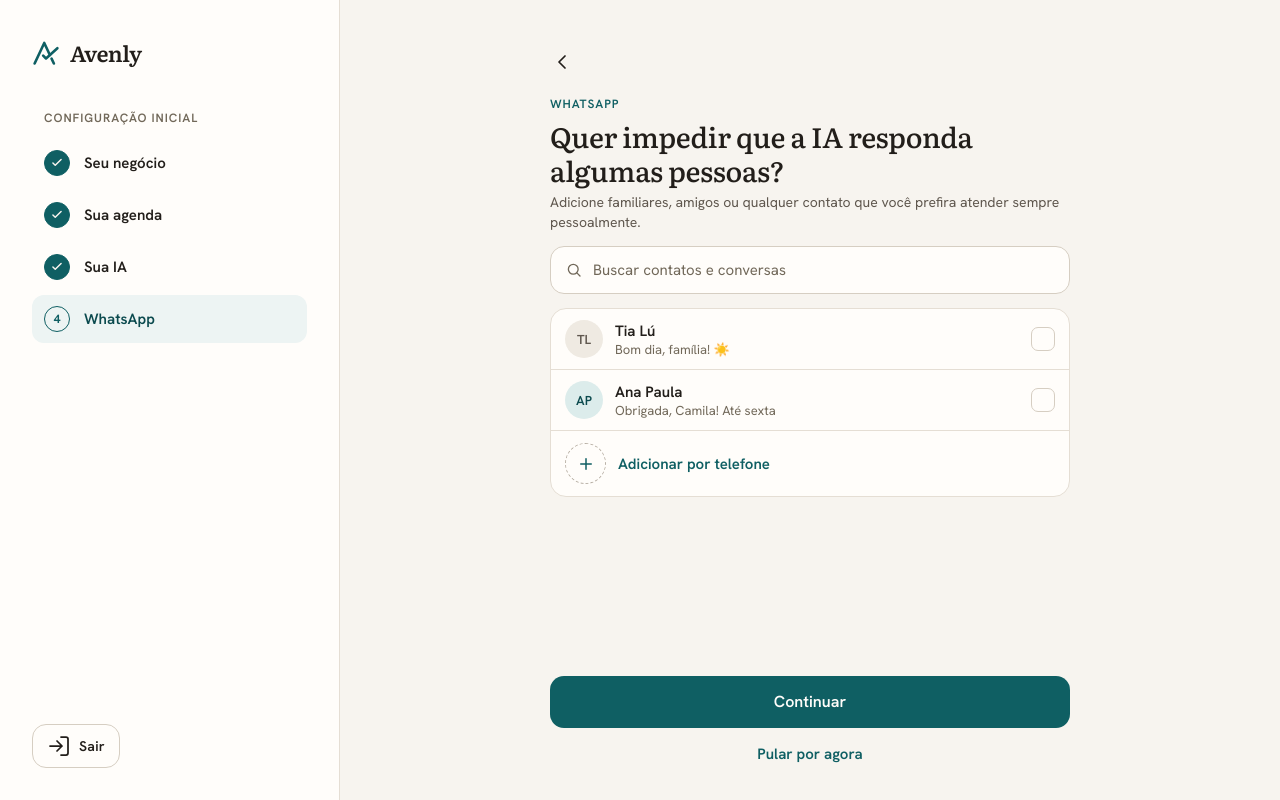
Test case: 4.5: o rodapé › soma a escolha: Continuar, Continuar · 1 pessoa, Continuar · N pessoas
Check: the button "Continuar" is shown, box [550,676,1070,728]
Click the checkbox labelled "Tia Lú".
click(584, 339)  # box [551,309,1069,369]
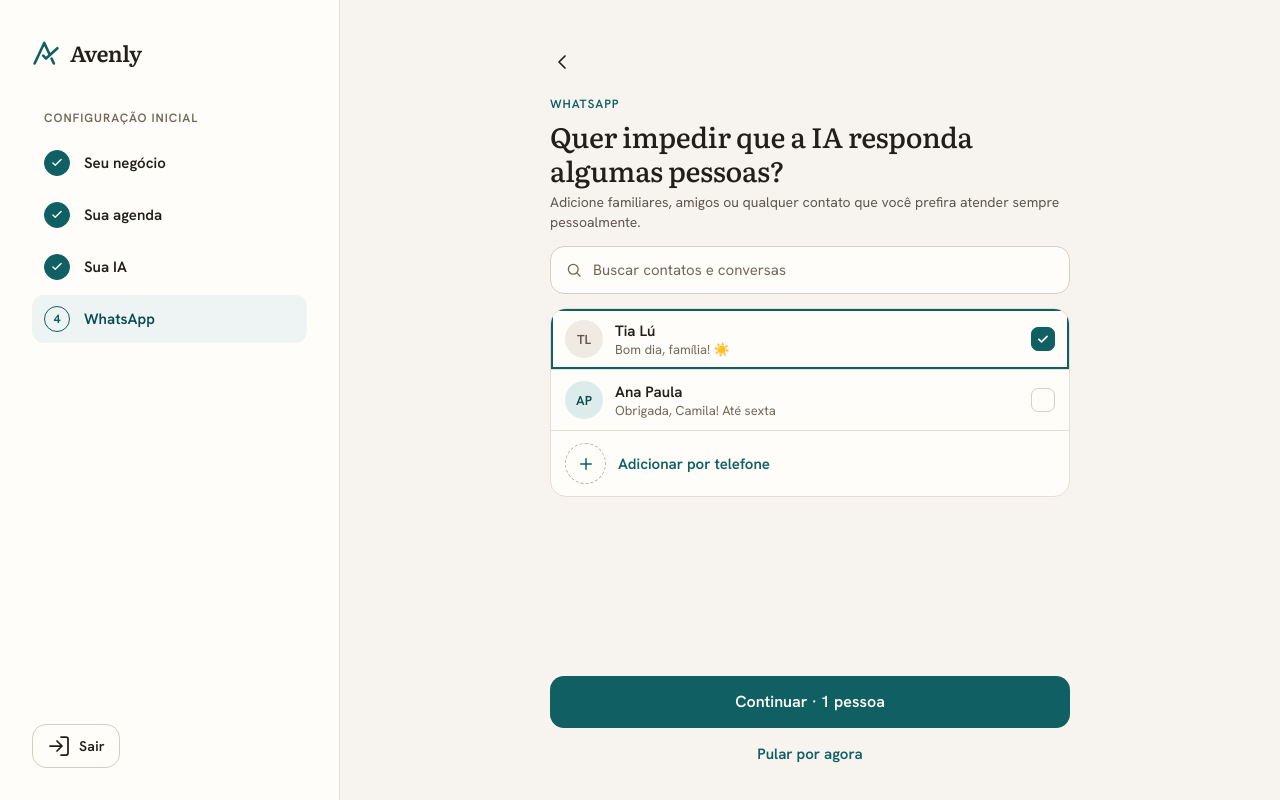
Check: the button "Continuar · 1 pessoa" is shown, box [550,676,1070,728]
Click the checkbox labelled "Ana Paula".
click(584, 400)  # box [551,369,1069,430]
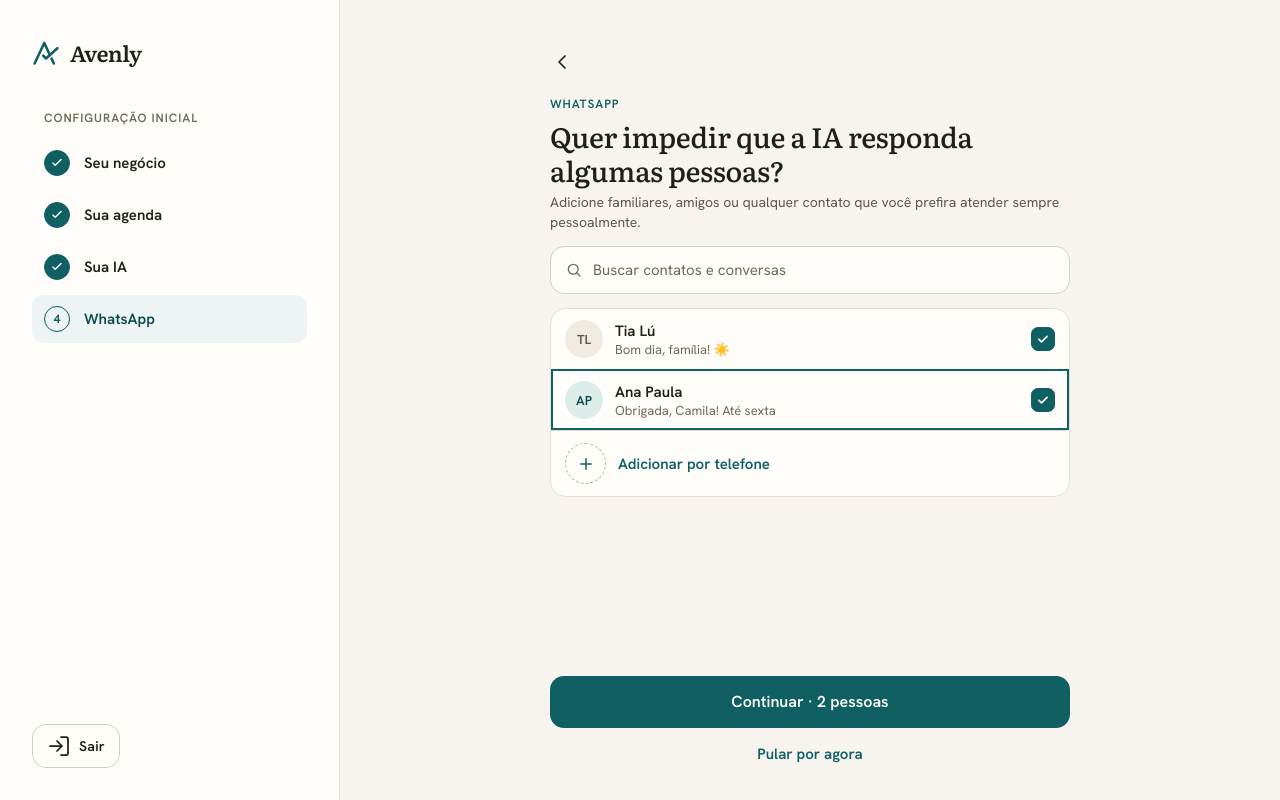
Check: the button "Continuar · 2 pessoas" is shown, box [550,676,1070,728]
